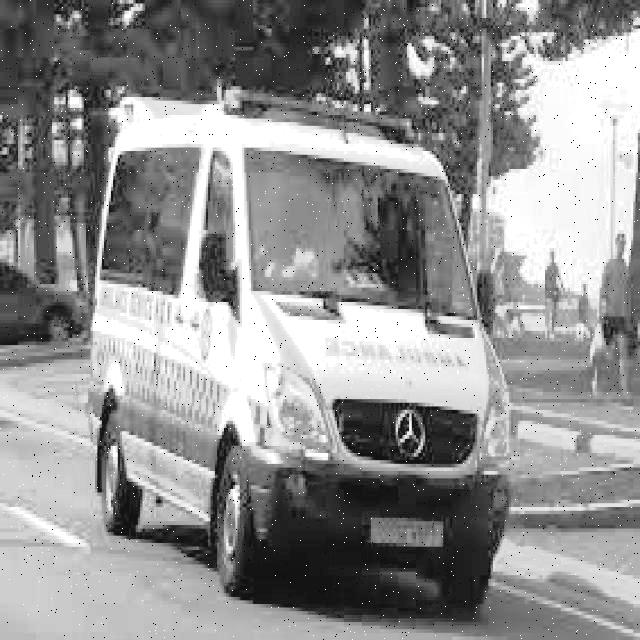LCV: (204, 100, 515, 569)
